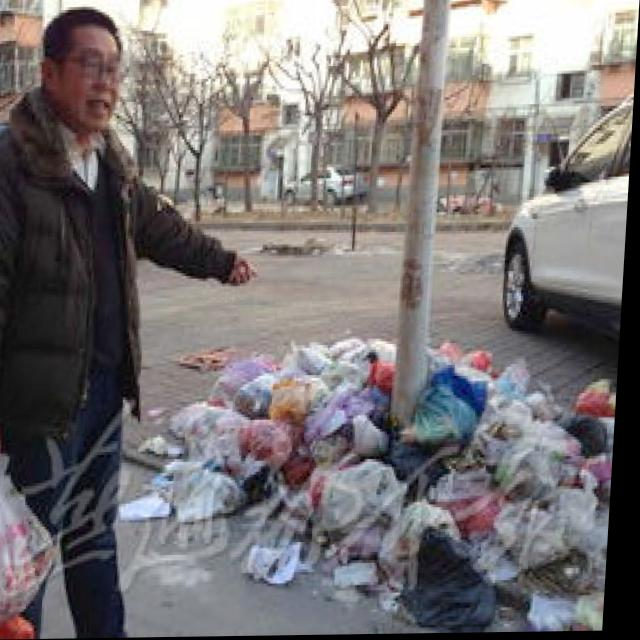garbage: (117, 332, 622, 635)
